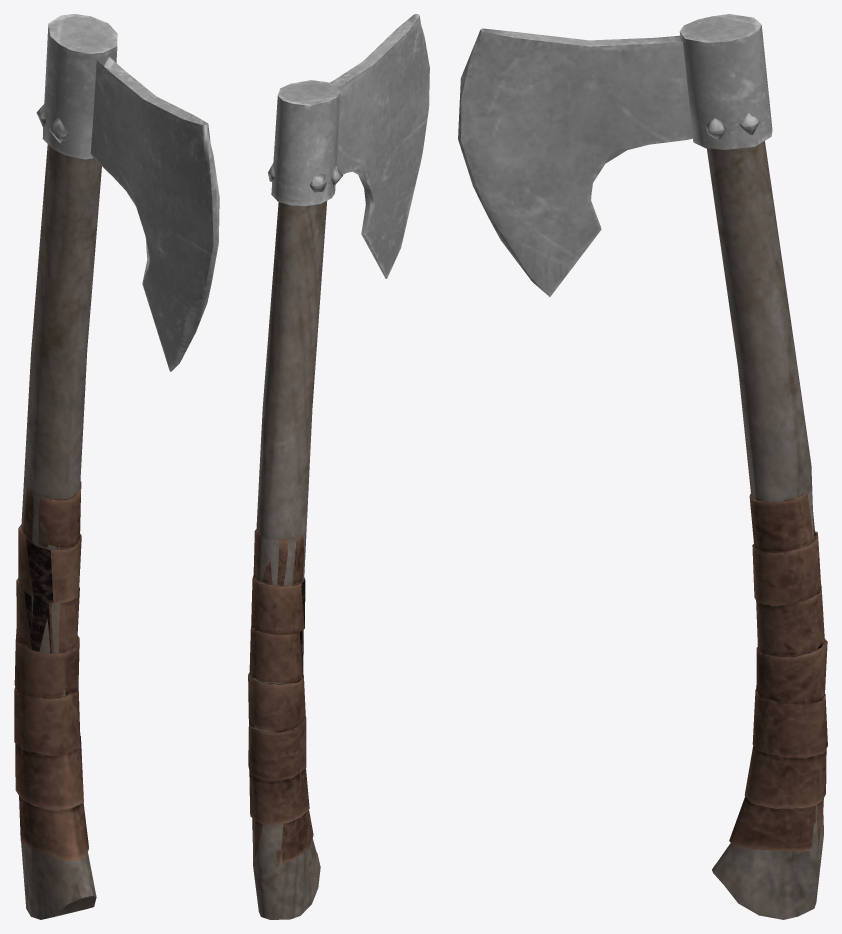
Rendered from SM_Axe_01.fbx.
3 renders of one model, left to right at view 1: azimuth 30°, elevation 25°; view 2: azimuth 150°, elevation 25°; view 3: azimuth 270°, elevation 25°, orthographic. The views are drawn at different scales.
Visible parts, largest first — view 1: SM_Axe_01_LOD0; view 2: SM_Axe_01_LOD0; view 3: SM_Axe_01_LOD0.
Boxes of the visible parts, box(x1,y1,x2,y2) form: SM_Axe_01_LOD0: box(14, 14, 219, 919); SM_Axe_01_LOD0: box(248, 14, 429, 919); SM_Axe_01_LOD0: box(458, 14, 827, 919).
Size of the model in its own units: 4.49 by 21.62 by 57.04.
